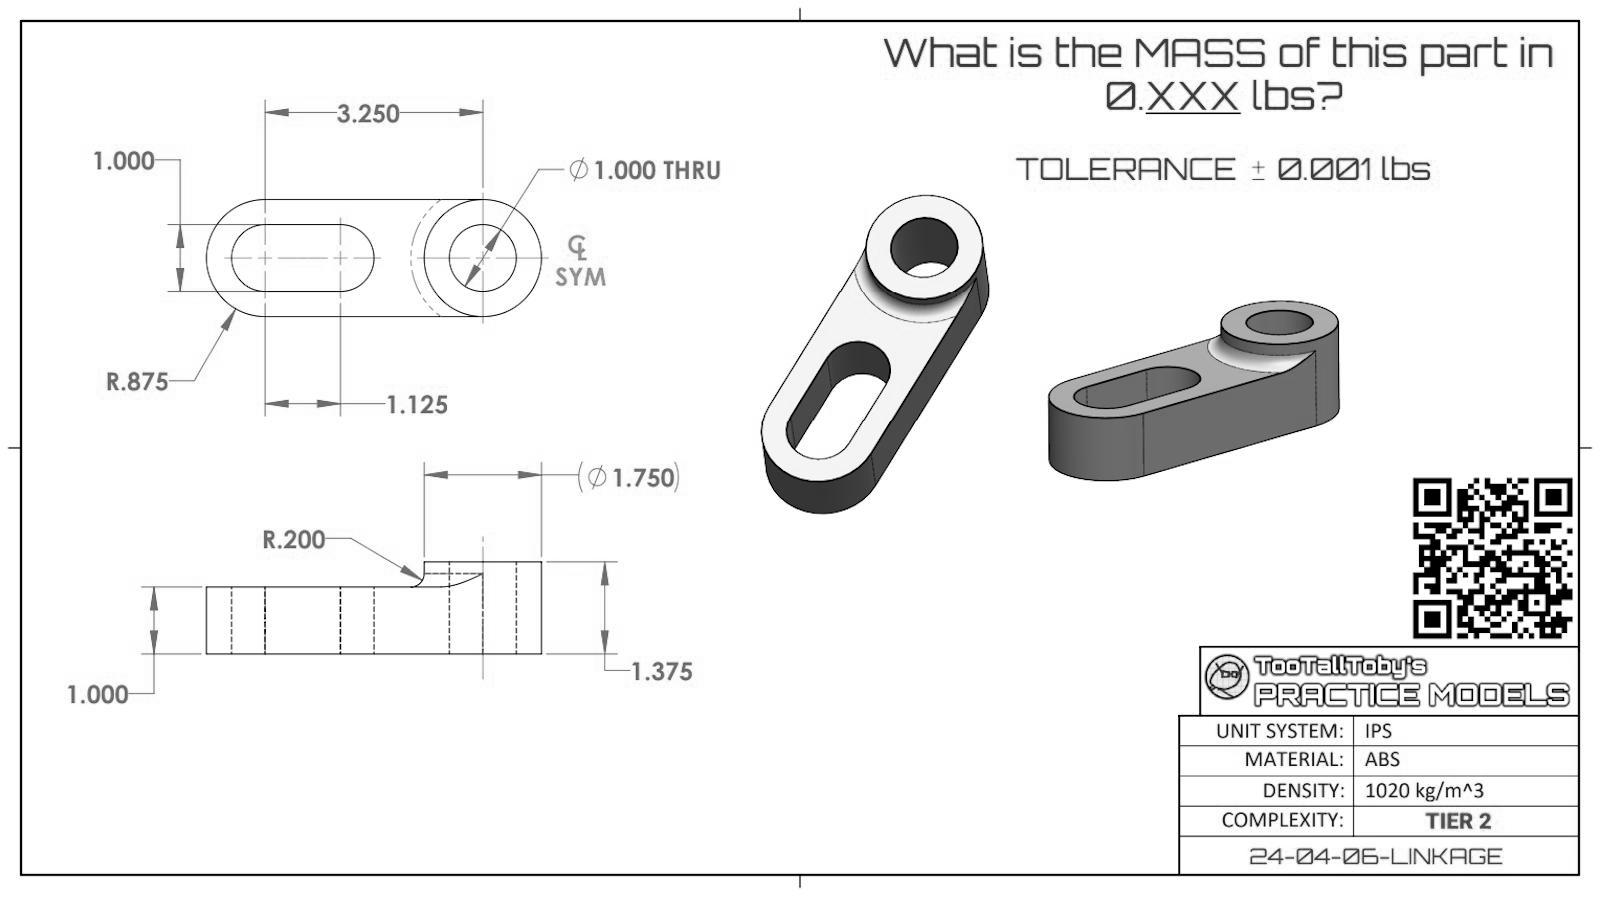-: (1249, 158, 1266, 184)
0: (1105, 80, 1136, 111), (1277, 156, 1302, 182), (1310, 156, 1334, 181), (1336, 156, 1358, 180), (113, 147, 129, 173), (642, 159, 658, 182), (614, 159, 629, 181), (126, 151, 141, 171), (662, 467, 676, 488), (312, 529, 326, 549), (87, 684, 101, 704), (141, 151, 155, 170), (298, 530, 311, 551), (101, 684, 114, 704), (386, 103, 399, 123), (115, 685, 129, 704), (630, 159, 642, 180), (1399, 781, 1411, 798), (1377, 782, 1387, 799)
1: (592, 157, 603, 182), (1362, 155, 1371, 181), (92, 149, 103, 171), (386, 393, 397, 415), (66, 684, 77, 705), (631, 660, 642, 682), (408, 393, 418, 415), (613, 467, 623, 488), (1365, 782, 1376, 798)
2: (358, 102, 373, 123), (285, 529, 298, 549), (421, 393, 432, 415), (1387, 782, 1399, 798)
3: (337, 102, 351, 124), (653, 660, 666, 682)
5: (434, 393, 448, 415), (678, 662, 693, 681), (373, 103, 387, 123), (156, 370, 169, 391), (647, 468, 660, 488)
7: (140, 370, 156, 392), (633, 467, 647, 488), (667, 662, 678, 681)
8: (127, 370, 142, 392)
ABS: (1363, 751, 1404, 768)
Coma: (625, 481, 633, 490), (80, 697, 87, 707), (107, 164, 113, 173), (1137, 104, 1144, 113), (120, 385, 126, 392), (399, 408, 405, 415), (607, 174, 614, 180), (644, 675, 651, 681), (353, 119, 357, 126), (277, 544, 282, 549), (1304, 176, 1309, 181)
Density: (1263, 779, 1345, 800)
Diameter: (569, 157, 589, 181), (588, 465, 608, 489)
IPS: (1364, 721, 1393, 740)
Material: (1243, 751, 1345, 768)
Radius: (264, 529, 277, 548), (107, 373, 119, 392)
SYM: (556, 268, 607, 288)
Symmetry: (567, 233, 590, 263)
Thru: (664, 159, 723, 180)
UnitSystem: (1215, 721, 1345, 742)
X: (1177, 79, 1208, 112), (1146, 79, 1175, 111), (1210, 79, 1238, 110)
lbs: (1252, 77, 1316, 113), (1380, 155, 1433, 182)
